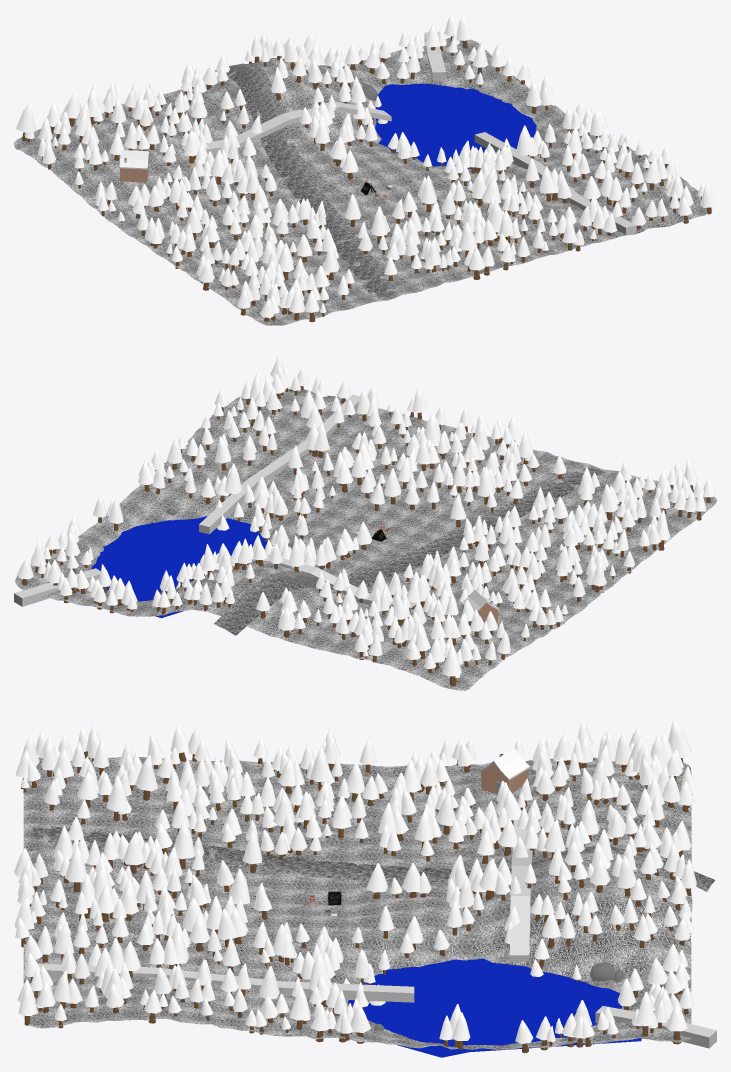
Rendered from bigfoot-env.glb.
The picture shows the model from 3 angles, top to bottom: view 1: azimuth 30°, elevation 25°; view 2: azimuth 150°, elevation 25°; view 3: azimuth 270°, elevation 25°; orthographic projection. The views are drawn at different scales.
Parts seen in each view (by area): view 1: ground, lake-water, road, bigfoot's walking path, river inlet, house, river outlet; view 2: ground, lake-water, road, river inlet, river outlet, bigfoot's walking path, house; view 3: ground, lake-water, road, GN Instance (×5), river inlet, bigfoot's walking path, house, river outlet.
Boxes of the visible parts, box(x1,y1,x2,y2) form: ground: box(14, 37, 712, 325); lake-water: box(375, 83, 536, 168); road: box(215, 63, 398, 297); bigfoot's walking path: box(181, 101, 391, 157); river inlet: box(474, 132, 636, 234); house: box(119, 150, 150, 182); river outlet: box(424, 32, 446, 80); ground: box(15, 383, 716, 690); lake-water: box(91, 516, 267, 618); road: box(214, 467, 604, 635); river inlet: box(199, 394, 359, 534); river outlet: box(14, 568, 100, 606); bigfoot's walking path: box(232, 554, 416, 611); house: box(461, 589, 499, 623); ground: box(23, 757, 692, 1049); lake-water: box(348, 958, 641, 1057); road: box(28, 826, 715, 891); GN Instance (×5): box(64, 719, 691, 892); river inlet: box(25, 963, 414, 1002); bigfoot's walking path: box(509, 819, 532, 961); house: box(479, 748, 529, 793); river outlet: box(595, 1006, 716, 1048).
Size of the model in its own units: 206 by 47.12 by 211.
17 materials, 3 textured.
